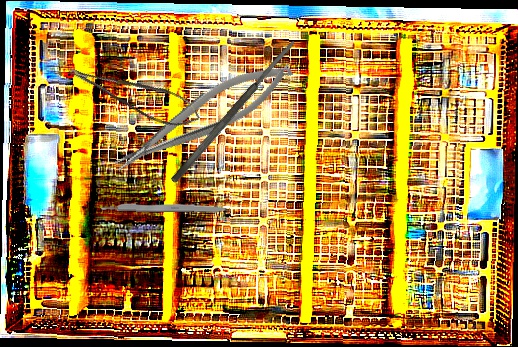Micro Scissor: (65, 44, 206, 140)
Needle Holder: (104, 52, 301, 180)
Scalpel Handle: (99, 201, 231, 214)
Spatula Surgical: (169, 37, 299, 185)
